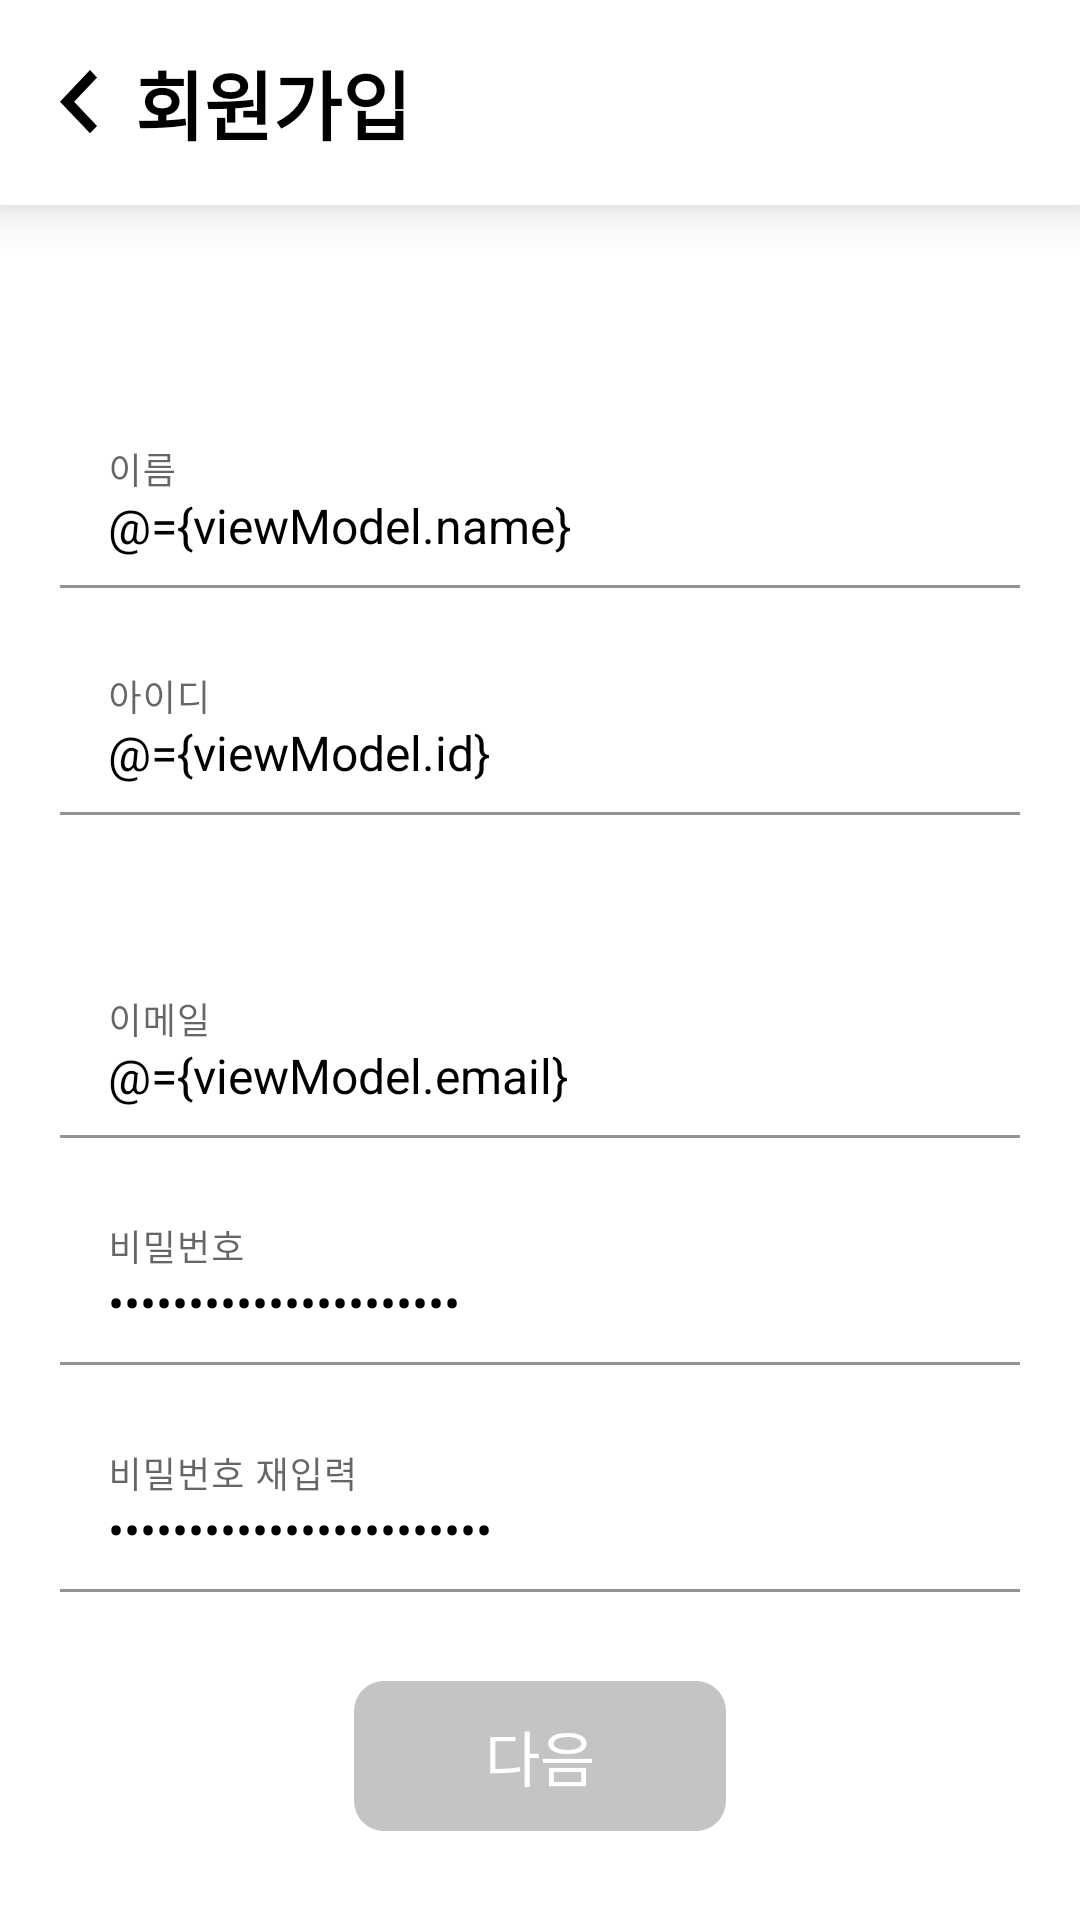

Screen size 1080px x 1920px. Icon name, then its box in pixels as (x1, y1, x2, y2):
arrow left: (60, 70, 97, 133)
